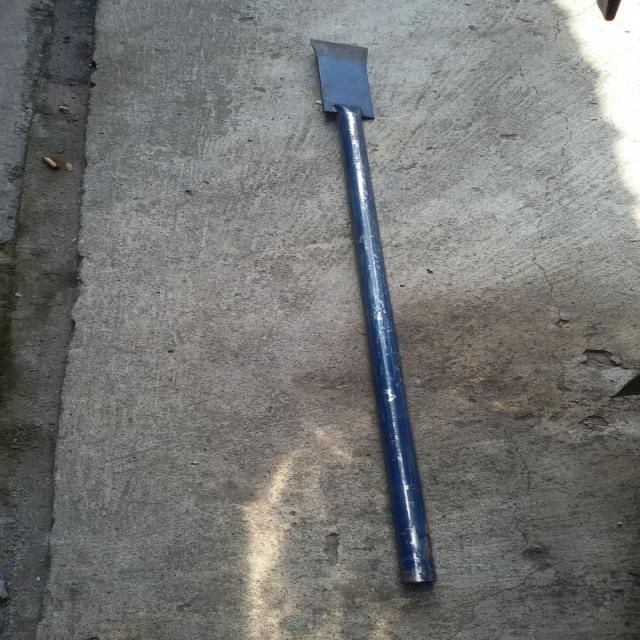Linggis: (299, 26, 487, 605)
